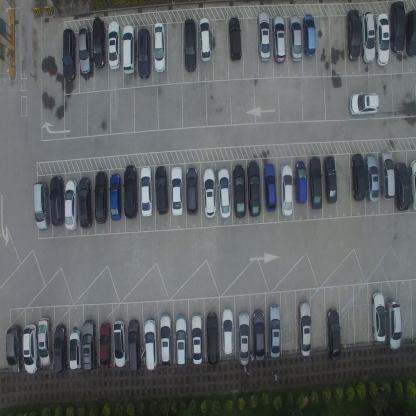car: (6, 324, 24, 375), (22, 324, 40, 374), (247, 159, 262, 218), (33, 180, 50, 231), (390, 2, 406, 55), (394, 162, 411, 211), (82, 319, 98, 371), (326, 307, 341, 362), (123, 165, 138, 220), (386, 300, 402, 351), (37, 316, 53, 367), (308, 156, 323, 210), (78, 176, 93, 230), (379, 150, 395, 200), (232, 163, 246, 219), (297, 300, 311, 356), (364, 154, 380, 203), (371, 290, 386, 342), (350, 90, 380, 116), (77, 23, 92, 75), (49, 175, 64, 227), (375, 12, 389, 67), (183, 18, 197, 73), (62, 27, 76, 82), (137, 28, 152, 79), (361, 10, 375, 64), (94, 171, 108, 225), (127, 319, 141, 372), (256, 11, 270, 64), (346, 9, 360, 62), (122, 23, 136, 76), (64, 178, 78, 231), (112, 318, 127, 367), (351, 153, 366, 202), (217, 167, 231, 219), (205, 312, 219, 364), (190, 313, 204, 365), (53, 322, 67, 374), (92, 17, 106, 69), (144, 319, 158, 370), (268, 304, 281, 358), (202, 168, 216, 218), (154, 165, 168, 215), (228, 16, 243, 62), (253, 309, 266, 362), (153, 21, 166, 74), (280, 164, 293, 217), (272, 15, 286, 64), (288, 14, 302, 63), (323, 155, 337, 204), (185, 166, 199, 215), (108, 19, 121, 71), (170, 166, 183, 218), (263, 162, 277, 210), (99, 321, 112, 370), (109, 172, 122, 221), (160, 313, 172, 366), (198, 17, 212, 62), (238, 312, 250, 364), (221, 307, 234, 355), (140, 165, 152, 217), (294, 160, 308, 204), (175, 315, 187, 366), (303, 14, 316, 58), (69, 328, 82, 370), (406, 8, 416, 58), (408, 158, 416, 213)
